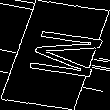M_E: (8, 27, 102, 83)
